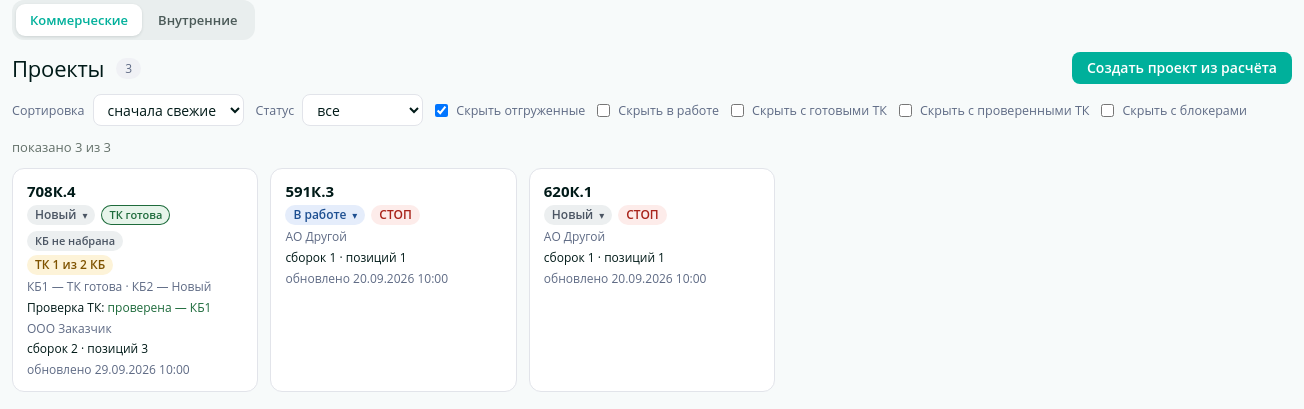
it: ProjectsPage › hides projects with an active blocker on request
Expected: the text "620К.1" is shown, [544,181,592,201]
Click the checkbox labelled "Скрыть с блокерами".
click(1108, 110)  # box [1102,104,1114,116]
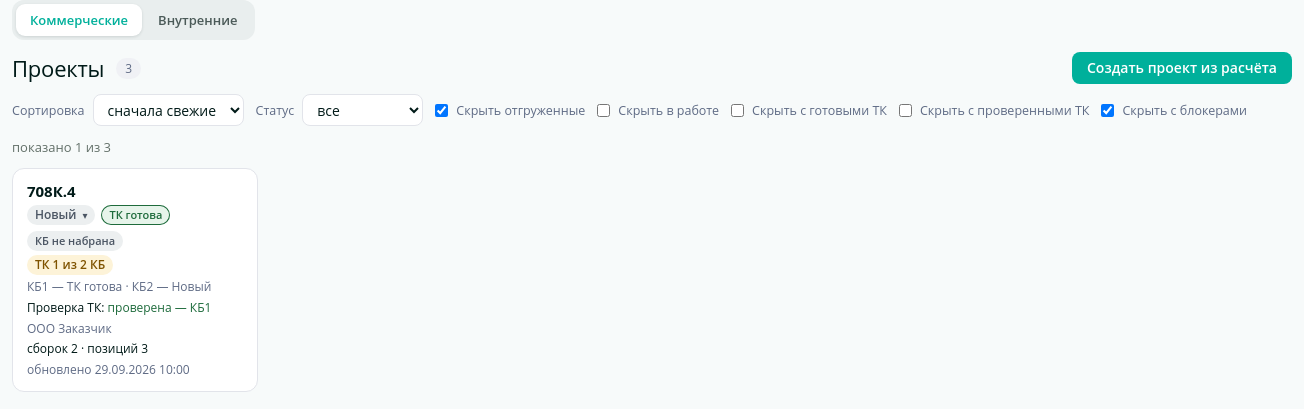
Expected: the button "620К.1" is gone
